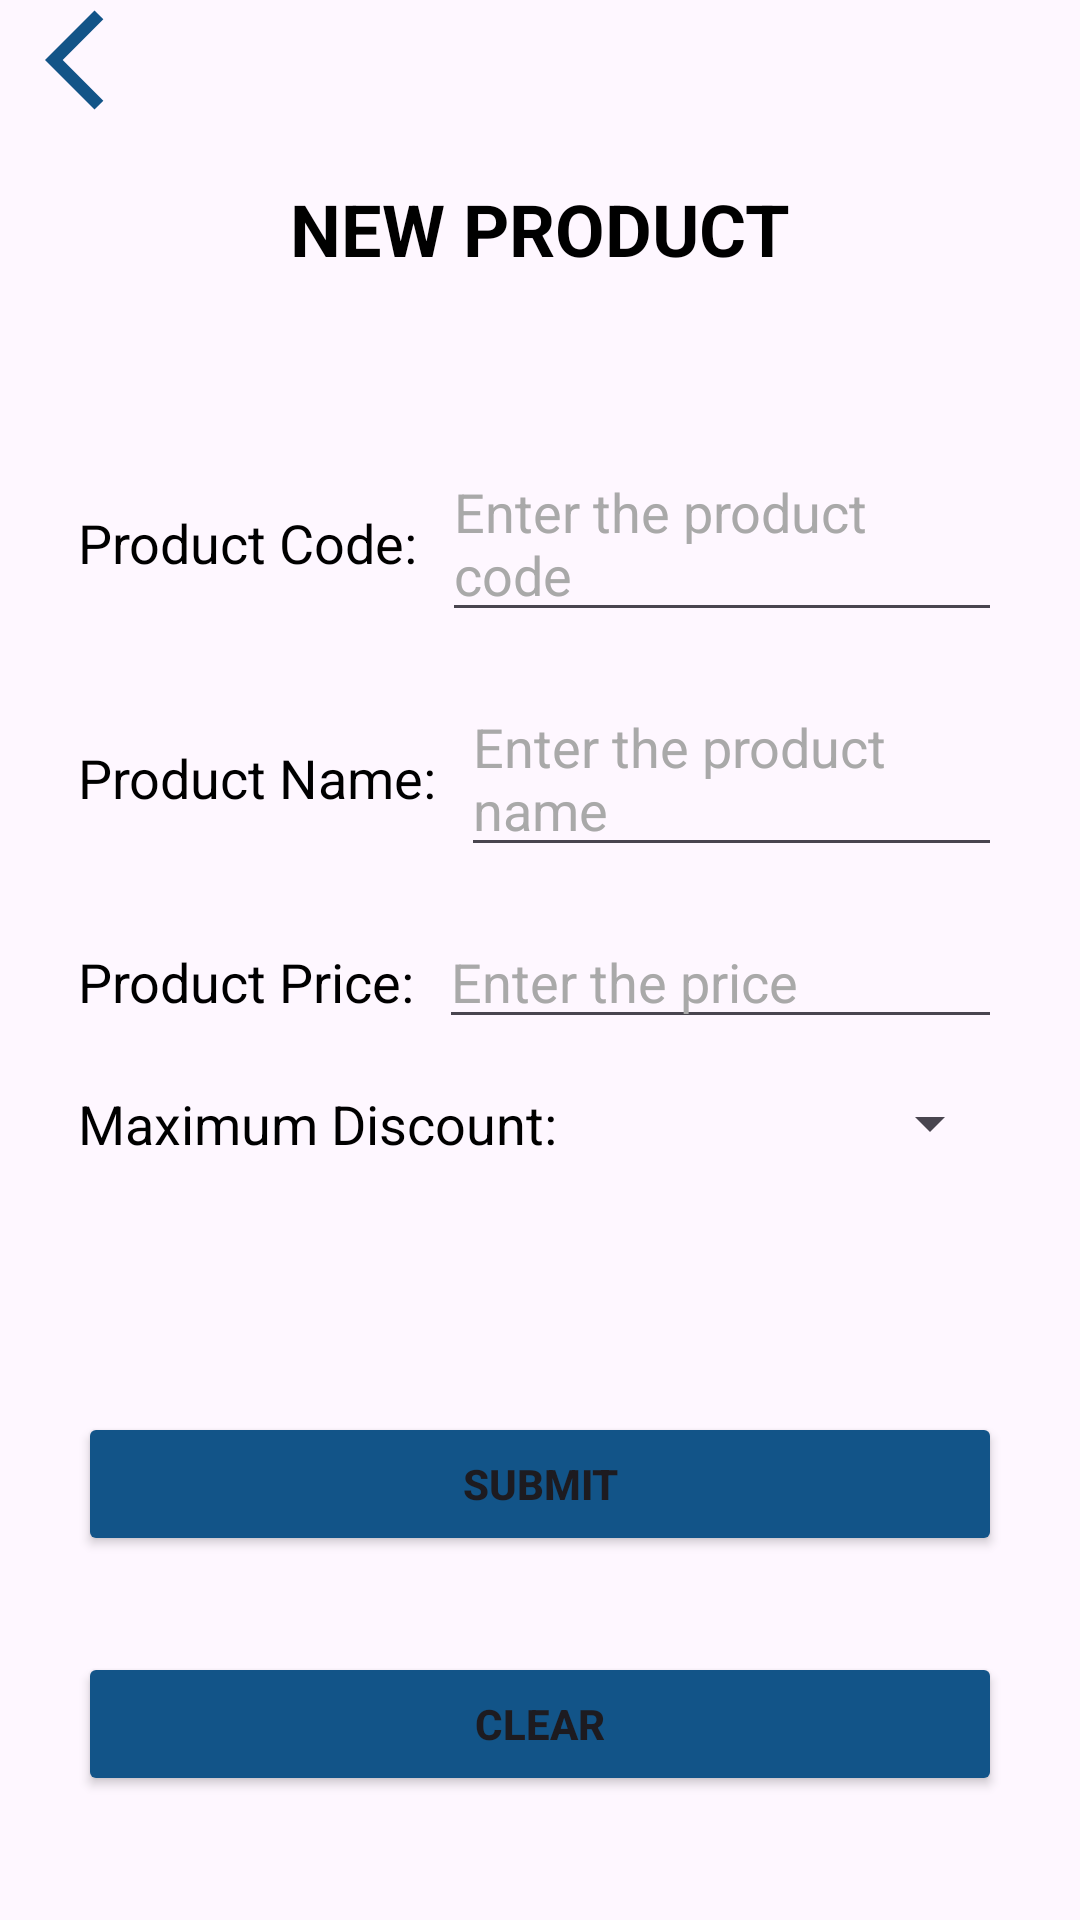

Icon click points for this 1080 x 1920 phone screenshot, format (x=x, y=y):
arrow back: (x=74, y=60)
